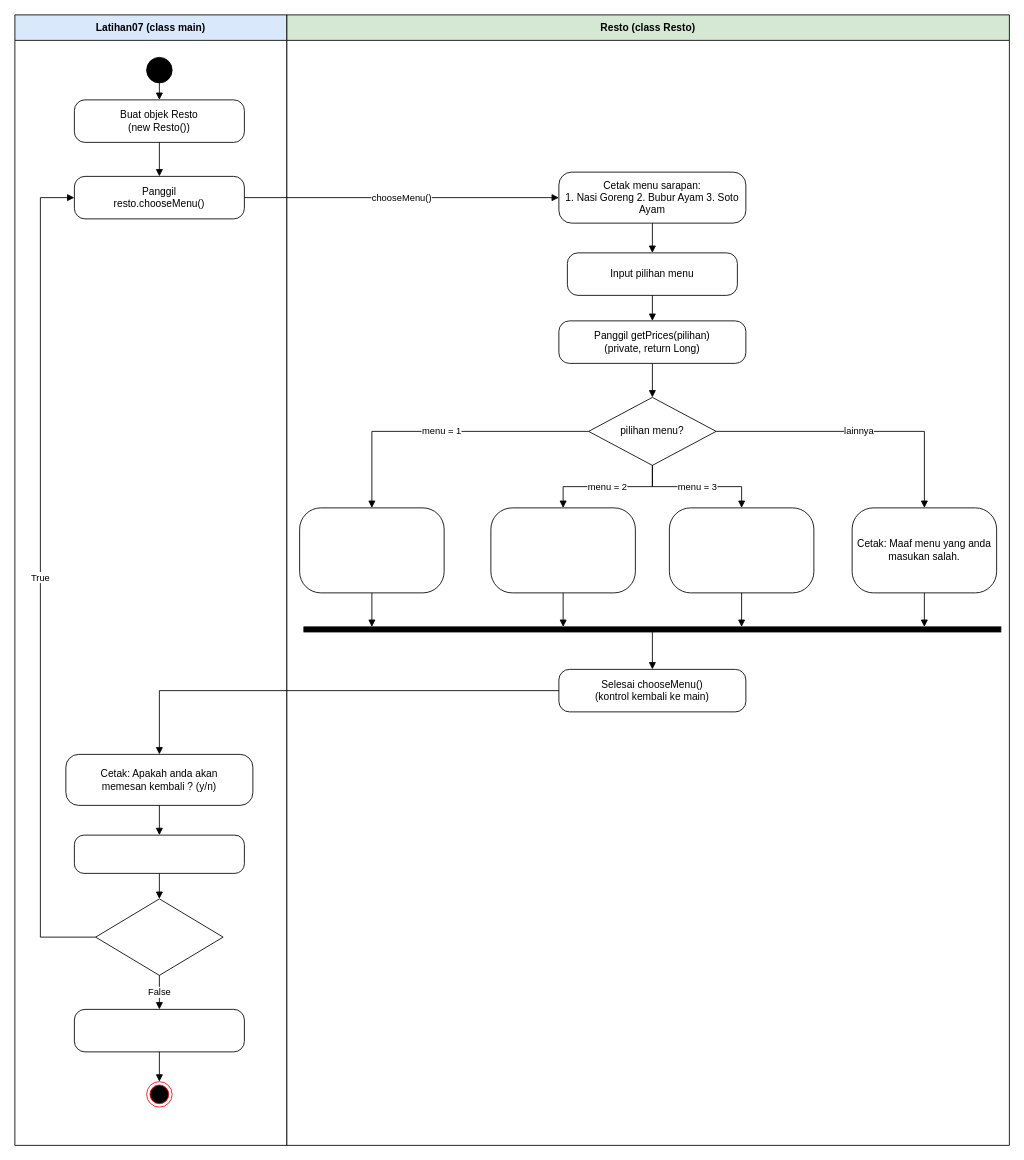
Image size: 1024x1160. Some labels were removed from this diagram. Here are the shapes that lost their labels. From the top down, the centre of each, then its label:
At [371,550]: "harga = 22.000 Cetak: Anda memesan Nasi Goreng dengan harga Rp 22.000,-".
At [562,550]: "harga = 15.000 Cetak: Anda memesan Bubur Ayam dengan harga Rp15.000,-".
At [741,550]: "harga = 25.000 Cetak: Anda memesan Soto Ayam dengan harga Rp 25.000,-".
At [159,853]: "Input pilihan y/n".
At [159,936]: "pilihan = y ?".
At [159,1030]: "Cetak: Terimakasih telah memesan.".
